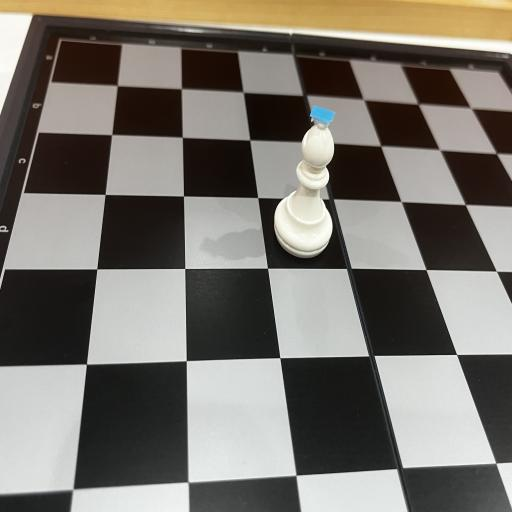White bishop: (274, 105, 336, 259)
